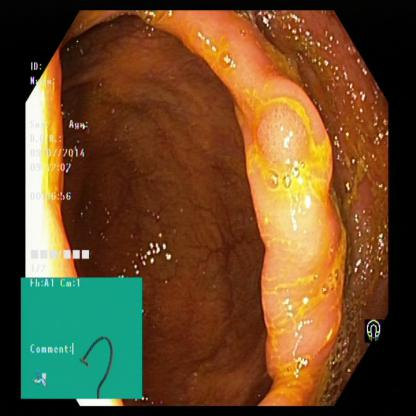Labels: (17, 275, 146, 398), (25, 52, 95, 276)
Polyps: (246, 88, 333, 195)
